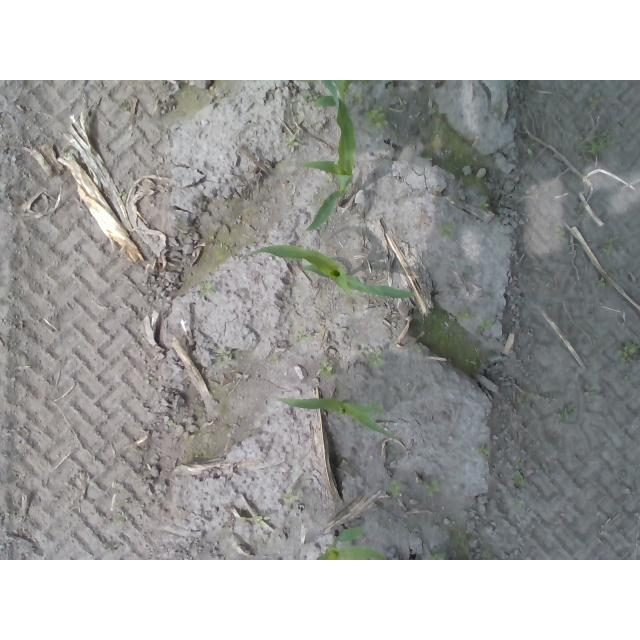Maize: (248, 238, 417, 303), (303, 80, 362, 232), (275, 388, 411, 453), (313, 524, 387, 561)
Weeds: (616, 342, 640, 371), (587, 135, 613, 156), (363, 108, 389, 128), (604, 234, 622, 256), (318, 361, 335, 379), (386, 479, 402, 497), (369, 352, 384, 369), (557, 405, 575, 419), (424, 481, 440, 496), (464, 355, 481, 369), (289, 133, 302, 151), (512, 473, 527, 488), (438, 223, 454, 237), (478, 197, 492, 212), (217, 348, 232, 361), (282, 491, 298, 503), (596, 276, 609, 290), (199, 283, 215, 294), (256, 515, 272, 526), (163, 416, 174, 431), (479, 319, 494, 329), (144, 373, 155, 385), (552, 227, 564, 238), (430, 552, 446, 560), (115, 191, 127, 201), (478, 447, 490, 457), (354, 95, 363, 106), (462, 313, 471, 320)
